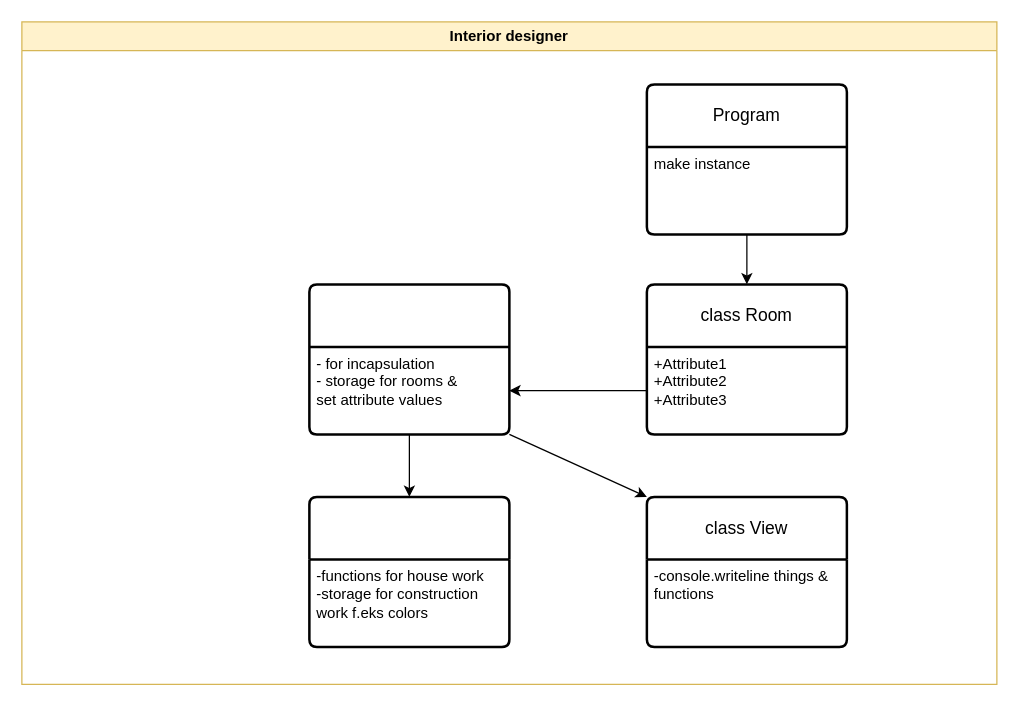
The diagram is 1019 pixels wide and 706 high, and some of its shapes have lost their labels. The shapes that lost their labels are listed below. From the top down, each one's box as (x1, y1, x2, y2) in pixels, then its label:
(308, 282, 510, 435): class House
(308, 495, 510, 648): class construction
